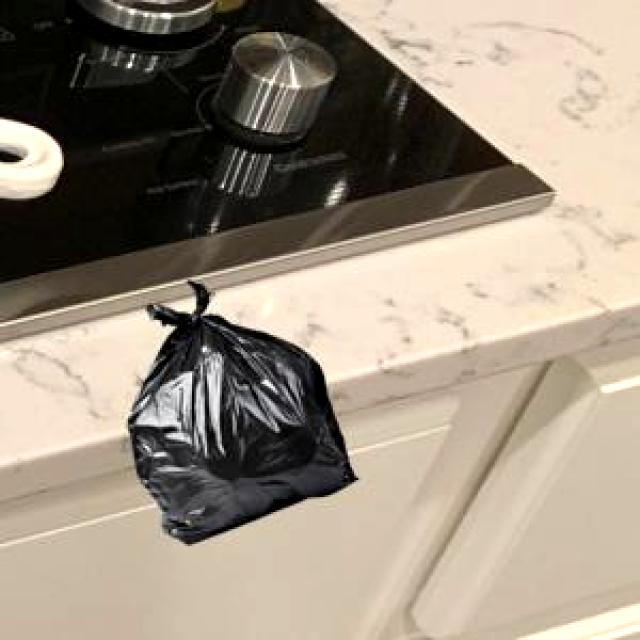Garbage_Bag: (124, 278, 356, 541)
